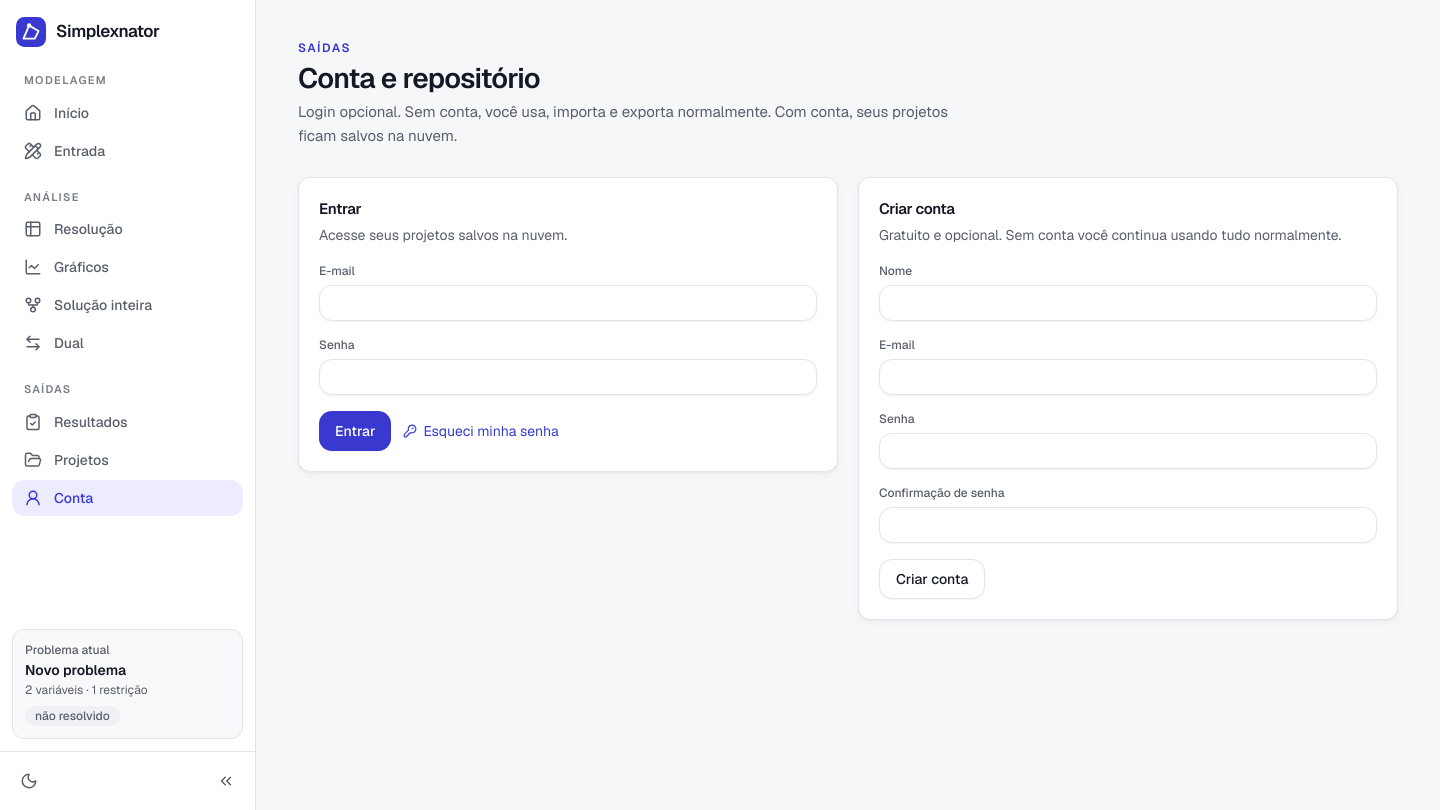
Test: cadastro, login, logout e recuperação de senha › valida os campos do cadastro
Click the button "Criar conta".
click(932, 579)  # box [879,559,985,599]
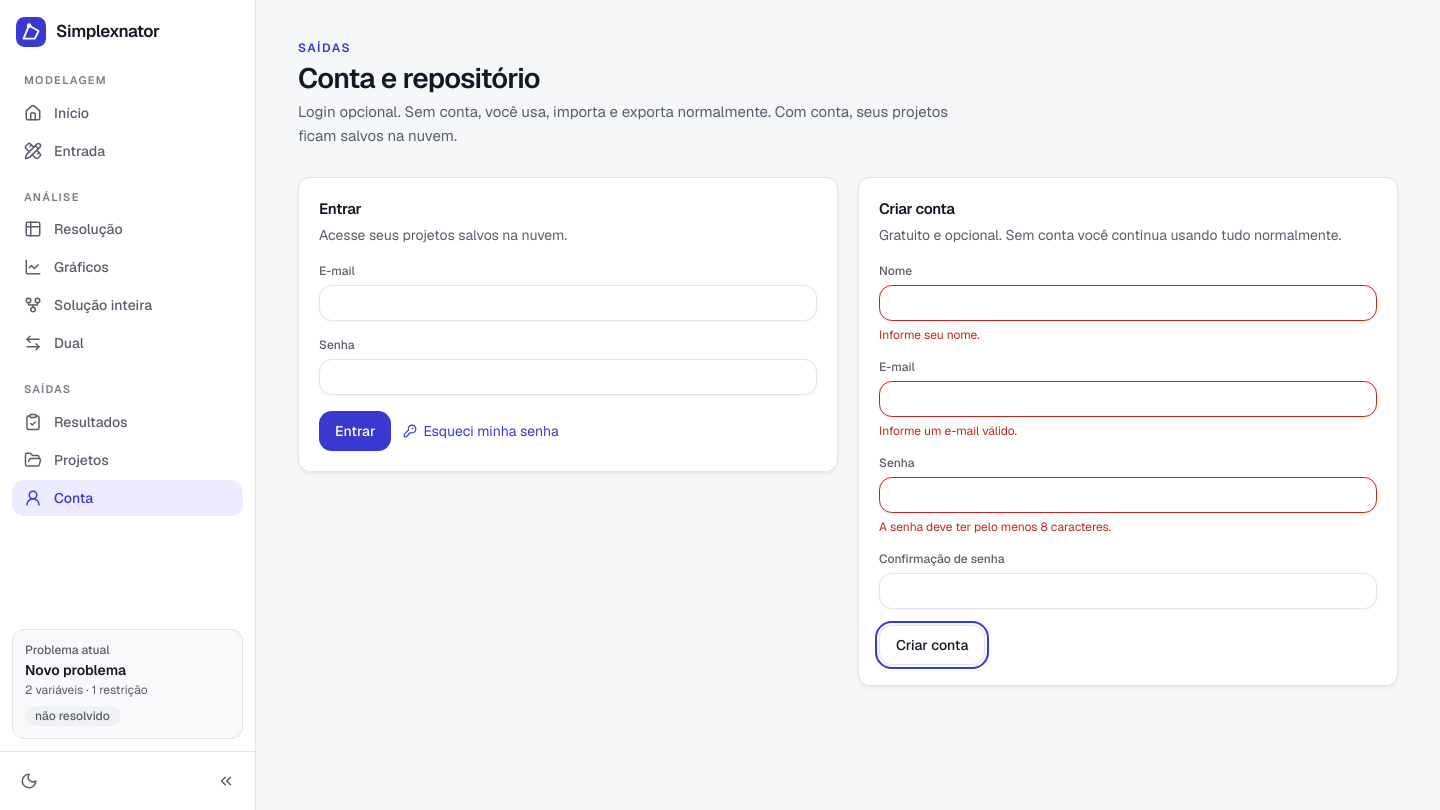
Expected: the text "Informe seu nome." is shown, [879,327,980,343]
Expected: the text "Informe um e-mail válido." is shown, [879,423,1017,439]
Expected: the text "A senha deve ter pelo menos 8 caracteres." is shown, [879,519,1111,535]
Type "Ana" into the field labelled "Nome".
click(1128, 303); type("Ana")  # box [879,285,1377,321]
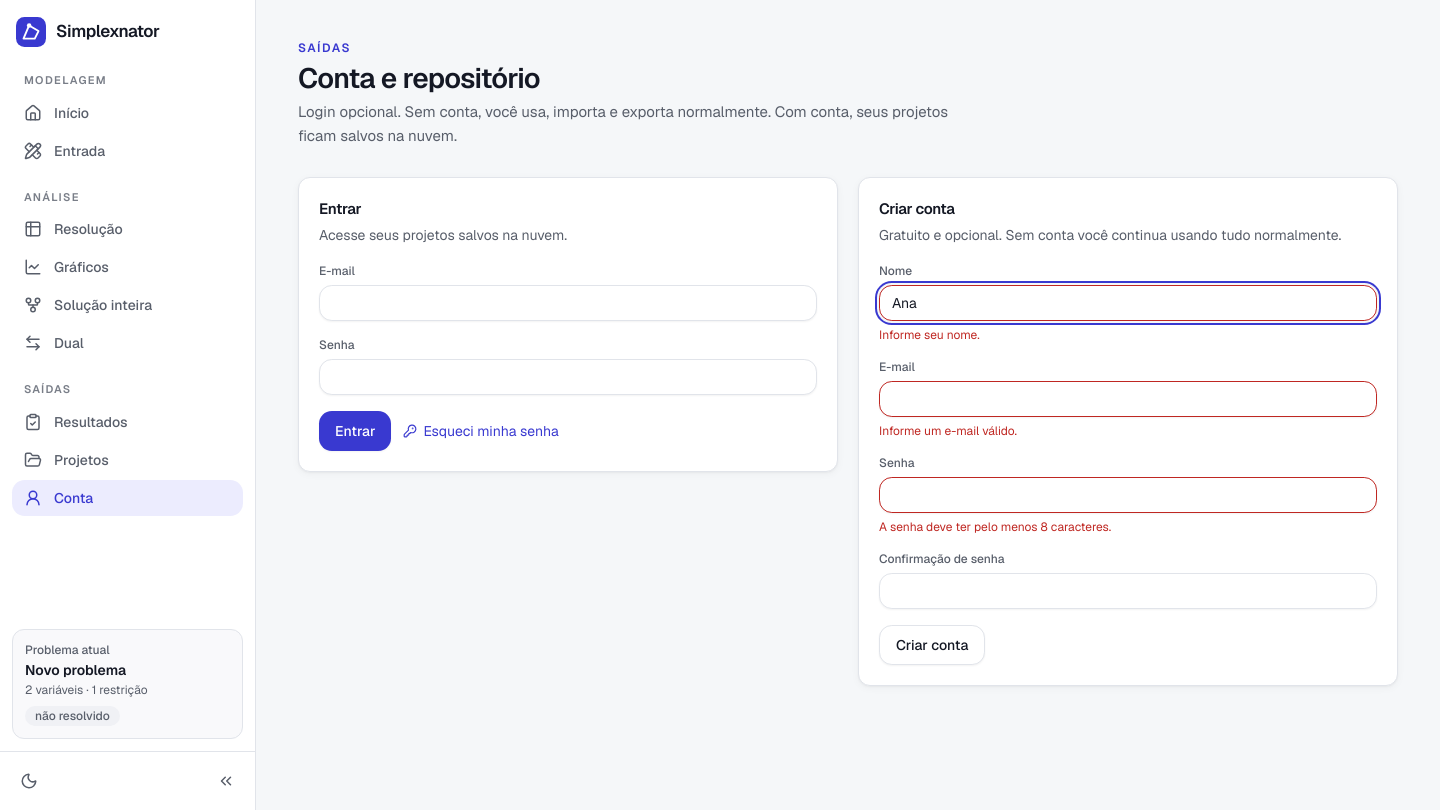
Type "ana@exemplo.com" into the field labelled "E-mail" below "Informe seu nome.".
click(1128, 399); type("ana@exemplo.com")  # box [879,381,1377,417]
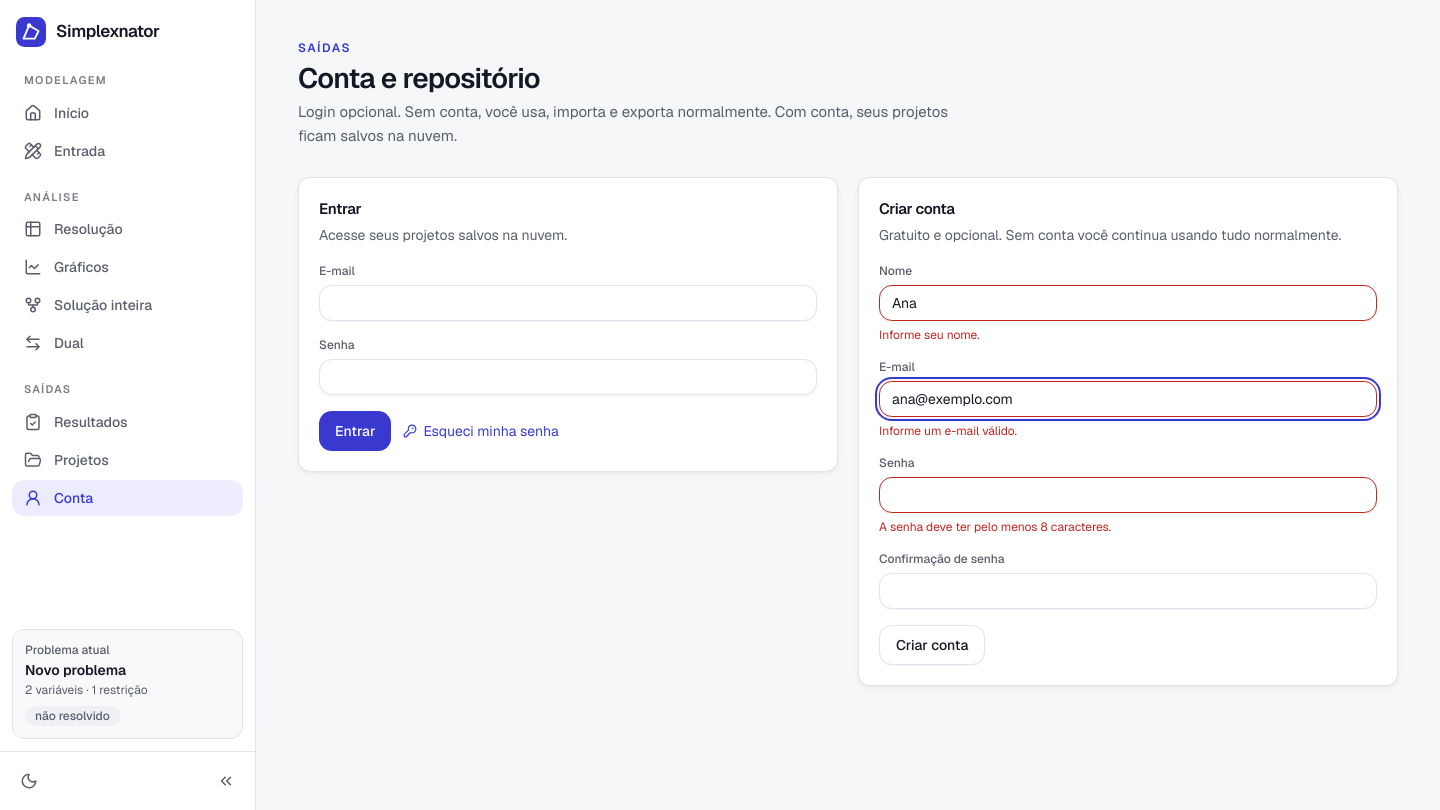
Type "senha-segura-1" into the password field labelled "Senha" below "Informe um e-mail válido.".
click(1128, 495); type("senha-segura-1")  # box [879,477,1377,513]
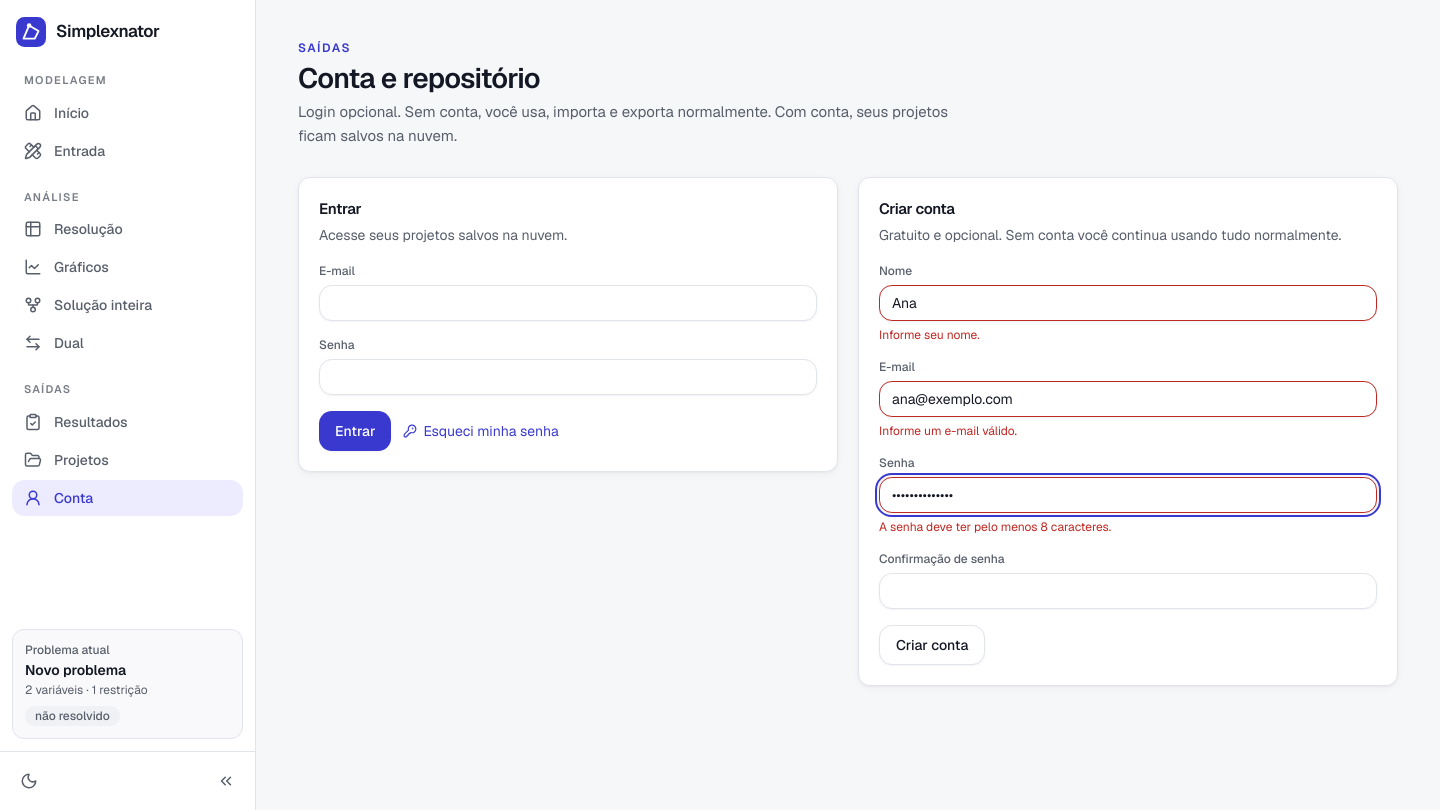
Type "outra-senha-1" into the password field labelled "Confirmação de senha".
click(1128, 591); type("outra-senha-1")  # box [879,573,1377,609]
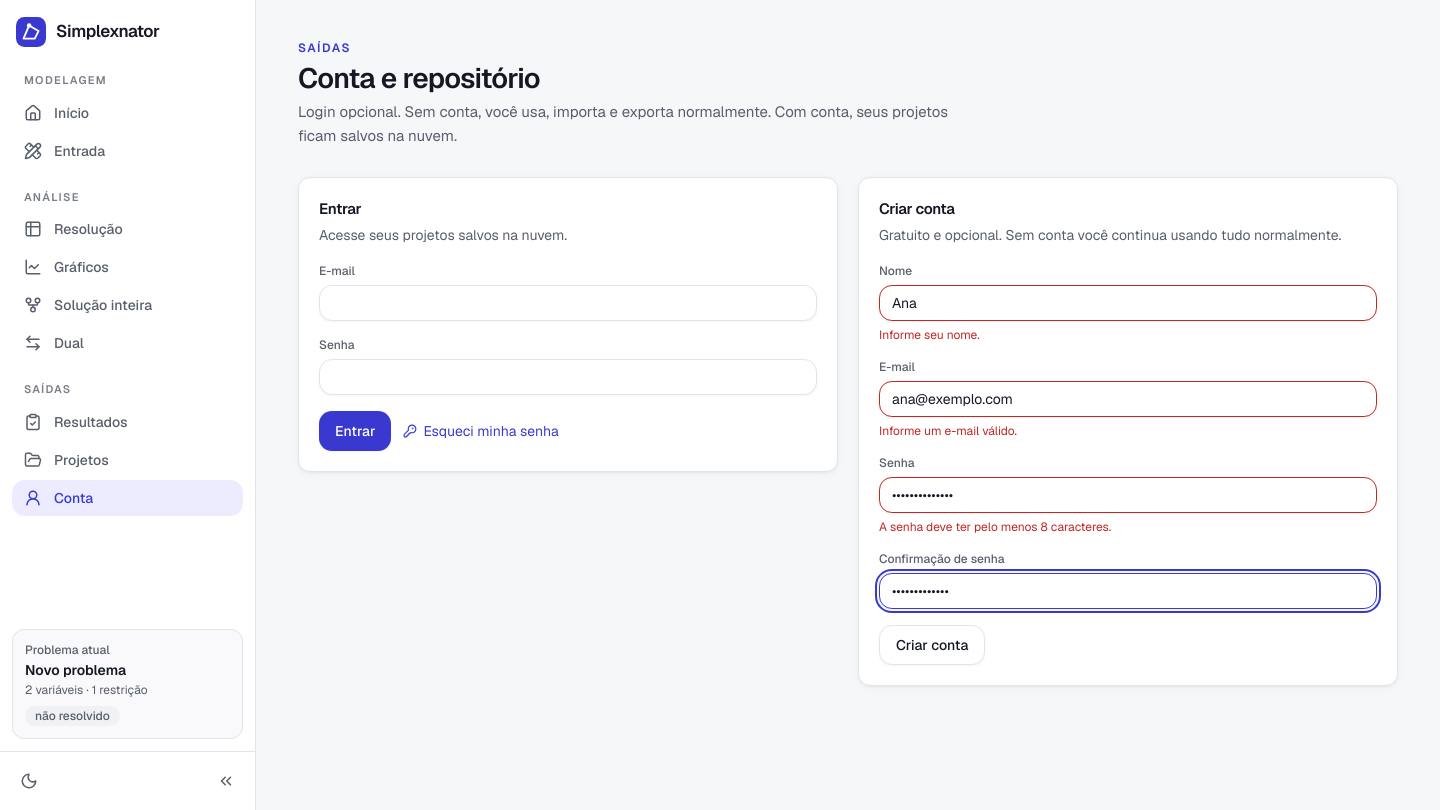
Click the button "Criar conta".
click(932, 645)  # box [879,625,985,665]
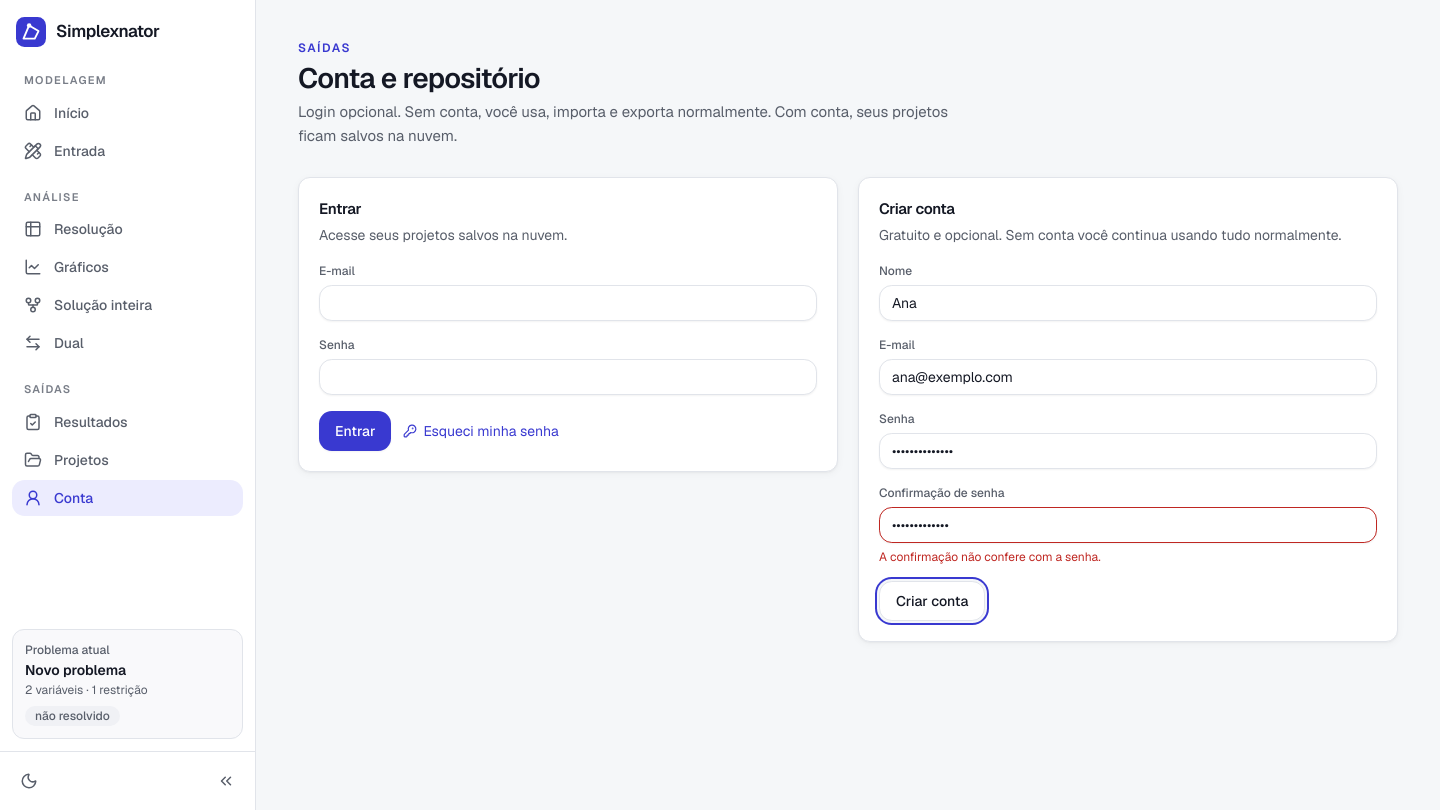
Expected: the text "A confirmação não confere com a senha." is shown, [879,549,1101,565]
